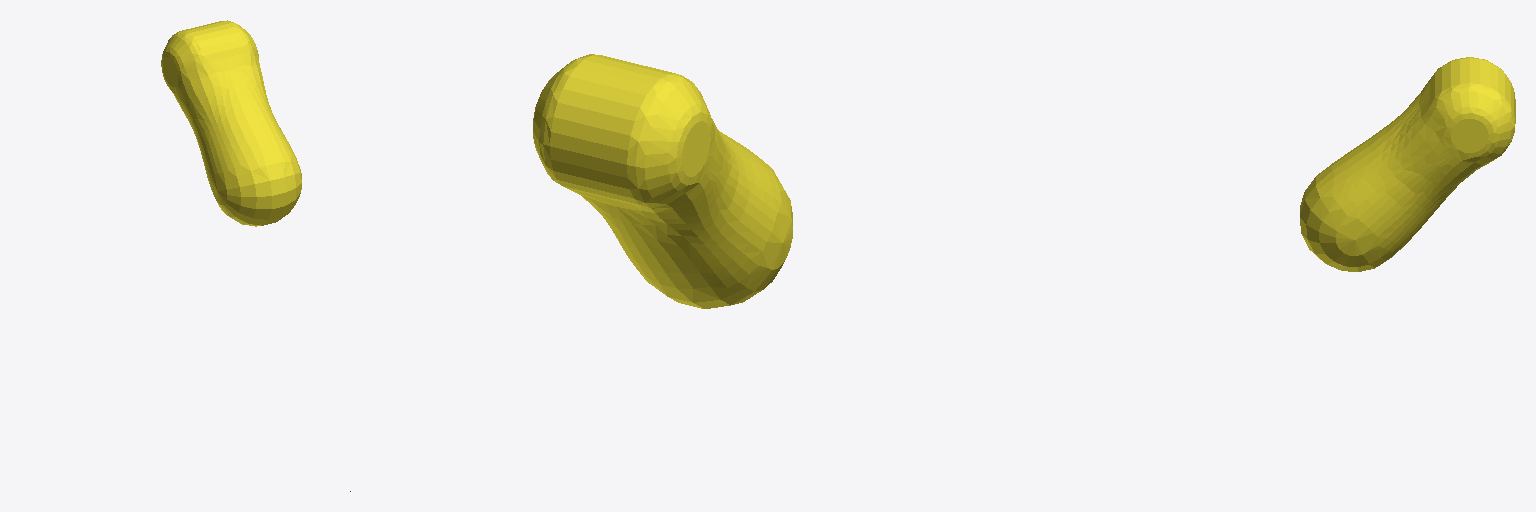
robot.urdf — Adroit:
<?xml version="0.0" ?>
<robot name="Adroit">
  <link name="adroit_root0">
    <inertial>
      <origin rpy="-0.03143 -0.00602 -0.37822" xyz="0.00100 -0.00200 0.29000"/>
      <mass value="4.00000"/>
      <inertia ixx="0.05139" ixy="0" ixz="0" iyy="0.05015" iyz="0" izz="0.04715"/>
    </inertial>
  </link>
  <link name="adroit_root1">
    <inertial>
      <mass value="0.01"/>
      <inertia ixx="1e-4" ixy="0.0" ixz="0.0" iyy="1e-4" iyz="0.0" izz="1e-4"/>
    </inertial>
  </link>
  <link name="adroit_root2">
    <inertial>
      <mass value="0.01"/>
      <inertia ixx="1e-4" ixy="0.0" ixz="0.0" iyy="1e-4" iyz="0.0" izz="1e-4"/>
    </inertial>
  </link>
  <link name="adroit_root3">
    <inertial>
      <mass value="0.01"/>
      <inertia ixx="1e-4" ixy="0.0" ixz="0.0" iyy="1e-4" iyz="0.0" izz="1e-4"/>
    </inertial>
  </link>
  <link name="adroit_root4">
    <inertial>
      <mass value="0.01"/>
      <inertia ixx="1e-4" ixy="0.0" ixz="0.0" iyy="1e-4" iyz="0.0" izz="1e-4"/>
    </inertial>
  </link>
  <link name="adroit_root5">
    <inertial>
      <mass value="0.01"/>
      <inertia ixx="1e-4" ixy="0.0" ixz="0.0" iyy="1e-4" iyz="0.0" izz="1e-4"/>
    </inertial>
  </link>

  <joint name="x_joint" type="prismatic">
    <parent link="adroit_root0"/>
    <child link="adroit_root1"/>
    <axis xyz="1 0 0"/>
    <limit lower="-0.5" upper="0.5"/>
  </joint>
  <joint name="y_joint" type="prismatic">
    <parent link="adroit_root1"/>
    <child link="adroit_root2"/>
    <axis xyz="0 1 0"/>
    <limit lower="-0.5" upper="0.5"/>
  </joint>
  <joint name="z_joint" type="prismatic">
    <parent link="adroit_root2"/>
    <child link="adroit_root3"/>
    <axis xyz="0 0 1"/>
    <limit lower="-0.5" upper="0.5"/>
  </joint>
  <joint name="x_rotation_joint" type="revolute">
    <parent link="adroit_root3"/>
    <child link="adroit_root4"/>
    <axis xyz="1 0 0"/>
    <limit lower="-3.14" upper="3.14"/>
  </joint>
  <joint name="y_rotation_joint" type="revolute">
    <parent link="adroit_root4"/>
    <child link="adroit_root5"/>
    <axis xyz="0 1 0"/>
    <limit lower="-3.14" upper="3.14"/>
  </joint>
  <joint name="z_rotation_joint" type="revolute">
    <parent link="adroit_root5"/>
    <child link="palm"/>
    <axis xyz="0 0 1"/>
    <origin rpy="-0.00000 -0.00000 1.57079" xyz="0 0 0"/>
    <limit lower="-3.14" upper="3.14"/>
  </joint>
  <link name="palm">
    <inertial>
      <origin rpy="0.16785 0.04641 1.54206" xyz="0.00600 0.00000 0.03600"/>
      <mass value="0.30000"/>
      <inertia ixx="700.28312" ixy="0" ixz="0" iyy="475.06938" iyz="0" izz="314.44362"/>
    </inertial>
    <visual>
      <geometry>
        <mesh filename="adroit_hand_description/meshes/palm.stl" scale="0.001 0.001 0.001"/>
      </geometry>
    </visual>
    <collision>
      <origin rpy="0.00000 -0.00000 0.00000" xyz="0.01100 0.00000 0.03800"/>
      <geometry>
        <box size="0.06400 0.02220 0.09800"/>
      </geometry>
    </collision>
    <collision>
      <origin rpy="0.00000 -0.00000 0.00000" xyz="-0.03200 -0.00000 0.01400"/>
      <geometry>
        <box size="0.02200 0.02220 0.05000"/>
      </geometry>
    </collision>
  </link>
  <link name="ffknuckle">
    <inertial>
      <origin rpy="2.04776 0.01137 0.00713" xyz="0.00000 0.00000 0.00000"/>
      <mass value="0.00800"/>
      <inertia ixx="0.77520" ixy="0" ixz="0" iyy="0.49146" iyz="0" izz="0.48926"/>
    </inertial>
    <visual>
      <geometry>
        <mesh filename="adroit_hand_description/meshes/knuckle.stl" scale="0.001 0.001 0.001"/>
      </geometry>
    </visual>
  </link>
  <link name="ffproximal">
    <inertial>
      <origin rpy="-0.00000 0.01132 1.57080" xyz="0.00000 0.00000 0.02300"/>
      <mass value="0.01400"/>
      <inertia ixx="4.70136" ixy="0" ixz="0" iyy="4.64128" iyz="0" izz="0.88127"/>
    </inertial>
    <visual>
      <geometry>
        <mesh filename="adroit_hand_description/meshes/F3.stl" scale="0.001 0.001 0.001"/>
      </geometry>
    </visual>
    <collision>
      <origin rpy="0.00000 -0.00000 0.00000" xyz="0.00000 0.00000 0.02250"/>
      <geometry>
        <capsule length="0.04500" radius="0.01000"/>
      </geometry>
    </collision>
  </link>
  <link name="ffmiddle">
    <inertial>
      <origin rpy="0.00000 -0.00000 1.57080" xyz="0.00000 0.00000 0.01100"/>
      <mass value="0.01200"/>
      <inertia ixx="1.92818" ixy="0" ixz="0" iyy="1.89149" iyz="0" izz="0.61726"/>
    </inertial>
    <visual>
      <geometry>
        <mesh filename="adroit_hand_description/meshes/F2.stl" scale="0.001 0.001 0.001"/>
      </geometry>
    </visual>
    <collision>
      <origin rpy="0.00000 -0.00000 0.00000" xyz="0.00000 0.00000 0.01250"/>
      <geometry>
        <capsule length="0.02500" radius="0.00805"/>
      </geometry>
    </collision>
  </link>
  <link name="ffdistal">
    <inertial>
      <origin rpy="-0.00000 0.00849 1.57080" xyz="0.00000 0.00000 0.01500"/>
      <mass value="0.01000"/>
      <inertia ixx="1.04965" ixy="0" ixz="0" iyy="0.97066" iyz="0" izz="0.44607"/>
    </inertial>
    <visual>
      <origin rpy="0.00000 -0.00000 0.00000" xyz="0.00000 -0.00000 0.00100"/>
      <geometry>
        <mesh filename="adroit_hand_description/meshes/F1.stl" scale="0.001 0.001 0.001"/>
      </geometry>
    </visual>
    <collision>
      <origin rpy="0.00000 -0.00000 0.00000" xyz="0.00000 -0.00000 0.01200"/>
      <geometry>
        <capsule length="0.02400" radius="0.00705"/>
      </geometry>
    </collision>
  </link>
  <link name="mfknuckle">
    <inertial>
      <origin rpy="2.04776 0.01137 0.00713" xyz="0.00000 0.00000 0.00000"/>
      <mass value="0.00800"/>
      <inertia ixx="0.77520" ixy="0" ixz="0" iyy="0.49146" iyz="0" izz="0.48926"/>
    </inertial>
    <visual>
      <geometry>
        <mesh filename="adroit_hand_description/meshes/knuckle.stl" scale="0.001 0.001 0.001"/>
      </geometry>
    </visual>
  </link>
  <link name="mfproximal">
    <inertial>
      <origin rpy="-0.00000 0.01132 1.57080" xyz="0.00000 0.00000 0.02300"/>
      <mass value="0.01400"/>
      <inertia ixx="4.70136" ixy="0" ixz="0" iyy="4.64128" iyz="0" izz="0.88127"/>
    </inertial>
    <visual>
      <geometry>
        <mesh filename="adroit_hand_description/meshes/F3.stl" scale="0.001 0.001 0.001"/>
      </geometry>
    </visual>
    <collision>
      <origin rpy="0.00000 -0.00000 0.00000" xyz="0.00000 0.00000 0.02250"/>
      <geometry>
        <capsule length="0.04500" radius="0.01000"/>
      </geometry>
    </collision>
  </link>
  <link name="mfmiddle">
    <inertial>
      <origin rpy="0.00000 -0.00000 1.57080" xyz="0.00000 0.00000 0.01200"/>
      <mass value="0.01200"/>
      <inertia ixx="1.92818" ixy="0" ixz="0" iyy="1.89149" iyz="0" izz="0.61726"/>
    </inertial>
    <visual>
      <geometry>
        <mesh filename="adroit_hand_description/meshes/F2.stl" scale="0.001 0.001 0.001"/>
      </geometry>
    </visual>
    <collision>
      <origin rpy="0.00000 -0.00000 0.00000" xyz="0.00000 0.00000 0.01250"/>
      <geometry>
        <capsule length="0.02500" radius="0.00805"/>
      </geometry>
    </collision>
  </link>
  <link name="mfdistal">
    <inertial>
      <origin rpy="-0.00000 0.00849 1.57080" xyz="0.00000 0.00000 0.01500"/>
      <mass value="0.01000"/>
      <inertia ixx="1.04965" ixy="0" ixz="0" iyy="0.97066" iyz="0" izz="0.44607"/>
    </inertial>
    <visual>
      <geometry>
        <mesh filename="adroit_hand_description/meshes/F1.stl" scale="0.001 0.001 0.001"/>
      </geometry>
    </visual>
    <collision>
      <origin rpy="0.00000 -0.00000 0.00000" xyz="0.00000 -0.00000 0.01200"/>
      <geometry>
        <capsule length="0.02400" radius="0.00705"/>
      </geometry>
    </collision>
  </link>
  <link name="rfknuckle">
    <inertial>
      <origin rpy="2.04776 0.01137 0.00713" xyz="0.00000 0.00000 0.00000"/>
      <mass value="0.00800"/>
      <inertia ixx="0.77520" ixy="0" ixz="0" iyy="0.49146" iyz="0" izz="0.48926"/>
    </inertial>
    <visual>
      <geometry>
        <mesh filename="adroit_hand_description/meshes/knuckle.stl" scale="0.001 0.001 0.001"/>
      </geometry>
    </visual>
  </link>
  <link name="rfproximal">
    <inertial>
      <origin rpy="-0.00000 0.01132 1.57080" xyz="0.00000 0.00000 0.02300"/>
      <mass value="0.01400"/>
      <inertia ixx="4.70136" ixy="0" ixz="0" iyy="4.64128" iyz="0" izz="0.88127"/>
    </inertial>
    <visual>
      <geometry>
        <mesh filename="adroit_hand_description/meshes/F3.stl" scale="0.001 0.001 0.001"/>
      </geometry>
    </visual>
    <collision>
      <origin rpy="0.00000 -0.00000 0.00000" xyz="0.00000 0.00000 0.02250"/>
      <geometry>
        <capsule length="0.04500" radius="0.01000"/>
      </geometry>
    </collision>
  </link>
  <link name="rfmiddle">
    <inertial>
      <origin rpy="0.00000 -0.00000 1.57080" xyz="0.00000 0.00000 0.01200"/>
      <mass value="0.01200"/>
      <inertia ixx="1.92818" ixy="0" ixz="0" iyy="1.89149" iyz="0" izz="0.61726"/>
    </inertial>
    <visual>
      <geometry>
        <mesh filename="adroit_hand_description/meshes/F2.stl" scale="0.001 0.001 0.001"/>
      </geometry>
    </visual>
    <collision>
      <origin rpy="0.00000 -0.00000 0.00000" xyz="0.00000 0.00000 0.01250"/>
      <geometry>
        <capsule length="0.02500" radius="0.00805"/>
      </geometry>
    </collision>
  </link>
  <link name="rfdistal">
    <inertial>
      <origin rpy="-0.00000 0.00849 1.57080" xyz="0.00000 0.00000 0.01500"/>
      <mass value="0.01000"/>
      <inertia ixx="1.04965" ixy="0" ixz="0" iyy="0.97066" iyz="0" izz="0.44607"/>
    </inertial>
    <visual>
      <origin rpy="0.00000 -0.00000 0.00000" xyz="0.00000 -0.00000 0.00100"/>
      <geometry>
        <mesh filename="adroit_hand_description/meshes/F1.stl" scale="0.001 0.001 0.001"/>
      </geometry>
    </visual>
    <collision>
      <origin rpy="0.00000 -0.00000 0.00000" xyz="0.00000 -0.00000 0.01200"/>
      <geometry>
        <capsule length="0.02400" radius="0.00705"/>
      </geometry>
    </collision>
  </link>
  <link name="lfmetacarpal">
    <inertial>
      <origin rpy="-0.22019 0.03876 1.54801" xyz="-0.01400 0.00100 0.01400"/>
      <mass value="0.07500"/>
      <inertia ixx="58.91810" ixy="0" ixz="0" iyy="45.72837" iyz="0" izz="21.82452"/>
    </inertial>
    <visual>
      <origin rpy="0.00000 -0.00000 0.00000" xyz="-0.01600 -0.00000 -0.02300"/>
      <geometry>
        <mesh filename="adroit_hand_description/meshes/lfmetacarpal.stl" scale="0.001 0.001 0.001"/>
      </geometry>
    </visual>
    <collision>
      <origin rpy="0.00000 -0.00000 0.00000" xyz="-0.01650 0.00000 0.01000"/>
      <geometry>
        <box size="0.01900 0.02220 0.05000"/>
      </geometry>
    </collision>
  </link>
  <link name="lfknuckle">
    <inertial>
      <origin rpy="2.04776 0.01137 0.00713" xyz="0.00000 0.00000 0.00000"/>
      <mass value="0.00800"/>
      <inertia ixx="0.77520" ixy="0" ixz="0" iyy="0.49146" iyz="0" izz="0.48926"/>
    </inertial>
    <visual>
      <geometry>
        <mesh filename="adroit_hand_description/meshes/knuckle.stl" scale="0.001 0.001 0.001"/>
      </geometry>
    </visual>
  </link>
  <link name="lfproximal">
    <inertial>
      <origin rpy="-0.00000 0.01132 1.57080" xyz="0.00000 0.00000 0.02300"/>
      <mass value="0.01400"/>
      <inertia ixx="4.70136" ixy="0" ixz="0" iyy="4.64128" iyz="0" izz="0.88127"/>
    </inertial>
    <visual>
      <geometry>
        <mesh filename="adroit_hand_description/meshes/F3.stl" scale="0.001 0.001 0.001"/>
      </geometry>
    </visual>
    <collision>
      <origin rpy="0.00000 -0.00000 0.00000" xyz="0.00000 0.00000 0.02250"/>
      <geometry>
        <capsule length="0.04500" radius="0.01000"/>
      </geometry>
    </collision>
  </link>
  <link name="lfmiddle">
    <inertial>
      <origin rpy="0.00000 -0.00000 1.57080" xyz="0.00000 0.00000 0.01200"/>
      <mass value="0.01200"/>
      <inertia ixx="1.92818" ixy="0" ixz="0" iyy="1.89149" iyz="0" izz="0.61726"/>
    </inertial>
    <visual>
      <geometry>
        <mesh filename="adroit_hand_description/meshes/F2.stl" scale="0.001 0.001 0.001"/>
      </geometry>
    </visual>
    <collision>
      <origin rpy="0.00000 -0.00000 0.00000" xyz="0.00000 0.00000 0.01250"/>
      <geometry>
        <capsule length="0.02500" radius="0.00805"/>
      </geometry>
    </collision>
  </link>
  <link name="lfdistal">
    <inertial>
      <origin rpy="-0.00000 0.00849 1.57080" xyz="0.00000 0.00000 0.01500"/>
      <mass value="0.01000"/>
      <inertia ixx="1.04965" ixy="0" ixz="0" iyy="0.97066" iyz="0" izz="0.44607"/>
    </inertial>
    <visual>
      <origin rpy="0.00000 -0.00000 0.00000" xyz="0.00000 -0.00000 0.00100"/>
      <geometry>
        <mesh filename="adroit_hand_description/meshes/F1.stl" scale="0.001 0.001 0.001"/>
      </geometry>
    </visual>
    <collision>
      <origin rpy="0.00000 -0.00000 0.00000" xyz="0.00000 -0.00000 0.01200"/>
      <geometry>
        <capsule length="0.02400" radius="0.00705"/>
      </geometry>
    </collision>
  </link>
  <link name="thbase">
    <inertial>
      <mass value="0.01000"/>
      <inertia ixx="0.00000" ixy="0" ixz="0" iyy="0.00000" iyz="0" izz="0.00000"/>
    </inertial>
    <collision>
      <geometry>
        <box size="0.00200 0.00200 0.00200"/>
      </geometry>
    </collision>
  </link>
  <link name="thproximal">
    <inertial>
      <origin rpy="0.00038 0.00196 0.38421" xyz="0.00000 0.00000 0.01700"/>
      <mass value="0.01600"/>
      <inertia ixx="6.48456" ixy="0" ixz="0" iyy="6.47914" iyz="0" izz="3.04491"/>
    </inertial>
    <visual>
      <geometry>
        <mesh filename="adroit_hand_description/meshes/TH3_z.stl" scale="0.001 0.001 0.001"/>
      </geometry>
    </visual>
    <collision>
      <origin rpy="0.00000 -0.00000 0.00000" xyz="0.00000 -0.00000 0.01900"/>
      <geometry>
        <capsule length="0.03800" radius="0.01300"/>
      </geometry>
    </collision>
  </link>
  <link name="thhub">
    <inertial>
      <mass value="0.00200"/>
      <inertia ixx="0.00000" ixy="0" ixz="0" iyy="0.00000" iyz="0" izz="0.00000"/>
    </inertial>
    <collision>
      <geometry>
        <box size="0.00200 0.00200 0.00200"/>
      </geometry>
    </collision>
  </link>
  <link name="thmiddle">
    <inertial>
      <origin rpy="-0.00204 -0.01399 0.00601" xyz="0.00000 0.00000 0.01600"/>
      <mass value="0.01600"/>
      <inertia ixx="4.28057" ixy="0" ixz="0" iyy="4.29017" iyz="0" izz="1.34849"/>
    </inertial>
    <visual>
      <geometry>
        <mesh filename="adroit_hand_description/meshes/TH2_z.stl" scale="0.001 0.001 0.001"/>
      </geometry>
    </visual>
    <collision>
      <origin rpy="0.00000 -0.00000 0.00000" xyz="0.00000 0.00000 0.01600"/>
      <geometry>
        <capsule length="0.03200" radius="0.01100"/>
      </geometry>
    </collision>
  </link>
  <link name="thdistal">
    <inertial>
      <origin rpy="-0.01050 -0.09397 0.01050" xyz="0.00000 0.00000 0.01600"/>
      <mass value="0.01600"/>
      <inertia ixx="2.57867" ixy="0" ixz="0" iyy="2.57257" iyz="0" izz="1.33251"/>
    </inertial>
    <visual>
      <geometry>
        <mesh filename="adroit_hand_description/meshes/TH1_z.stl" scale="0.001 0.001 0.001"/>
      </geometry>
    </visual>
    <collision>
      <origin rpy="0.00000 -0.00000 0.00000" xyz="0.00000 0.00000 0.01300"/>
      <geometry>
        <capsule length="0.02600" radius="0.00918"/>
      </geometry>
    </collision>
  </link>
  <joint name="FFJ3" type="revolute">
    <parent link="palm"/>
    <child link="ffknuckle"/>
    <dynamics damping="1.0" friction="0.0001"/>
    <limit effort="0" lower="-0.436" upper="0.436" velocity="0"/>
    <origin rpy="0.00000 -0.00000 -0.00000" xyz="0.03300 0.00000 0.09500"/>
    <axis xyz="0.00000 1.00000 0.00000"/>
  </joint>
  <joint name="FFJ2" type="revolute">
    <parent link="ffknuckle"/>
    <child link="ffproximal"/>
    <dynamics damping="1.0" friction="0.0001"/>
    <limit effort="0" lower="0" upper="1.571" velocity="0"/>
    <axis xyz="1.00000 0.00000 0.00000"/>
  </joint>
  <joint name="FFJ1" type="revolute">
    <parent link="ffproximal"/>
    <child link="ffmiddle"/>
    <dynamics damping="1.0" friction="0.0001"/>
    <limit effort="0" lower="0" upper="1.571" velocity="0"/>
    <origin rpy="0.00000 -0.00000 0.00000" xyz="0.00000 0.00000 0.04500"/>
    <axis xyz="1.00000 0.00000 0.00000"/>
  </joint>
  <joint name="FFJ0" type="revolute">
    <limit effort="0" lower="0" upper="1.571" velocity="0"/>
    <parent link="ffmiddle"/>
    <child link="ffdistal"/>
    <dynamics damping="1.0" friction="0.0001"/>
    <origin rpy="0.00000 -0.00000 0.00000" xyz="0.00000 0.00000 0.02500"/>
    <axis xyz="1.00000 0.00000 0.00000"/>
  </joint>
  <joint name="MFJ3" type="revolute">
    <limit effort="0" lower="-0.436" upper="0.436" velocity="0"/>
    <parent link="palm"/>
    <child link="mfknuckle"/>
    <dynamics damping="1.0" friction="0.0001"/>
    <origin rpy="0.00000 -0.00000 -0.00000" xyz="0.01100 0.00000 0.09900"/>
    <axis xyz="0.00000 1.00000 0.00000"/>
  </joint>
  <joint name="MFJ2" type="revolute">
    <limit effort="0" lower="0" upper="1.571" velocity="0"/>
    <parent link="mfknuckle"/>
    <child link="mfproximal"/>
    <dynamics damping="1.0" friction="0.0001"/>
    <axis xyz="1.00000 0.00000 0.00000"/>
  </joint>
  <joint name="MFJ1" type="revolute">
    <limit effort="0" lower="0" upper="1.571" velocity="0"/>
    <parent link="mfproximal"/>
    <child link="mfmiddle"/>
    <dynamics damping="1.0" friction="0.0001"/>
    <origin rpy="0.00000 -0.00000 0.00000" xyz="0.00000 0.00000 0.04500"/>
    <axis xyz="1.00000 0.00000 0.00000"/>
  </joint>
  <joint name="MFJ0" type="revolute">
    <limit effort="0" lower="0" upper="1.571" velocity="0"/>
    <parent link="mfmiddle"/>
    <child link="mfdistal"/>
    <dynamics damping="1.0" friction="0.0001"/>
    <origin rpy="0.00000 -0.00000 0.00000" xyz="0.00000 0.00000 0.02500"/>
    <axis xyz="1.00000 0.00000 0.00000"/>
  </joint>
  <joint name="RFJ3" type="revolute">
    <limit effort="0" lower="-0.436" upper="0.436" velocity="0"/>
    <parent link="palm"/>
    <child link="rfknuckle"/>
    <dynamics damping="1.0" friction="0.0001"/>
    <origin rpy="0.00000 -0.00000 -0.00000" xyz="-0.01100 -0.00000 0.09500"/>
    <axis xyz="0.00000 1.00000 0.00000"/>
  </joint>
  <joint name="RFJ2" type="revolute">
    <limit effort="0" lower="0" upper="1.571" velocity="0"/>
    <parent link="rfknuckle"/>
    <child link="rfproximal"/>
    <dynamics damping="1.0" friction="0.0001"/>
    <axis xyz="1.00000 0.00000 0.00000"/>
  </joint>
  <joint name="RFJ1" type="revolute">
    <limit effort="0" lower="0" upper="1.571" velocity="0"/>
    <parent link="rfproximal"/>
    <child link="rfmiddle"/>
    <dynamics damping="1.0" friction="0.0001"/>
    <origin rpy="0.00000 -0.00000 0.00000" xyz="0.00000 0.00000 0.04500"/>
    <axis xyz="1.00000 0.00000 0.00000"/>
  </joint>
  <joint name="RFJ0" type="revolute">
    <limit effort="0" lower="0" upper="1.571" velocity="0"/>
    <parent link="rfmiddle"/>
    <child link="rfdistal"/>
    <dynamics damping="1.0" friction="0.0001"/>
    <origin rpy="0.00000 -0.00000 0.00000" xyz="0.00000 0.00000 0.02500"/>
    <axis xyz="1.00000 0.00000 0.00000"/>
  </joint>
  <joint name="LFJ4" type="revolute">
    <limit effort="0" lower="0" upper="0.698" velocity="0"/>
    <parent link="palm"/>
    <child link="lfmetacarpal"/>
    <dynamics damping="1.0" friction="0.0001"/>
    <origin rpy="0.00000 -0.00000 -0.00000" xyz="-0.01700 -0.00000 0.04400"/>
    <axis xyz="0.57098 0.00000 0.82097"/>
  </joint>
  <joint name="LFJ3" type="revolute">
    <limit effort="0" lower="-0.436" upper="0.436" velocity="0"/>
    <parent link="lfmetacarpal"/>
    <child link="lfknuckle"/>
    <dynamics damping="1.0" friction="0.0001"/>
    <origin rpy="0.00000 -0.00000 0.00000" xyz="-0.01700 -0.00000 0.04400"/>
    <axis xyz="0.00000 1.00000 0.00000"/>
  </joint>
  <joint name="LFJ2" type="revolute">
    <limit effort="0" lower="0" upper="1.571" velocity="0"/>
    <parent link="lfknuckle"/>
    <child link="lfproximal"/>
    <dynamics damping="1.0" friction="0.0001"/>
    <axis xyz="1.00000 0.00000 0.00000"/>
  </joint>
  <joint name="LFJ1" type="revolute">
    <limit effort="0" lower="0" upper="1.571" velocity="0"/>
    <parent link="lfproximal"/>
    <child link="lfmiddle"/>
    <dynamics damping="1.0" friction="0.0001"/>
    <origin rpy="0.00000 -0.00000 0.00000" xyz="0.00000 0.00000 0.04500"/>
    <axis xyz="1.00000 0.00000 0.00000"/>
  </joint>
  <joint name="LFJ0" type="revolute">
    <limit effort="0" lower="0" upper="1.571" velocity="0"/>
    <parent link="lfmiddle"/>
    <child link="lfdistal"/>
    <dynamics damping="1.0" friction="0.0001"/>
    <origin rpy="0.00000 -0.00000 0.00000" xyz="0.00000 0.00000 0.02500"/>
    <axis xyz="1.00000 0.00000 0.00000"/>
  </joint>
  <joint name="THJ4" type="revolute">
    <limit effort="0" lower="-1.047" upper="1.047" velocity="0"/>
    <parent link="palm"/>
    <child link="thbase"/>
    <dynamics damping="1.0" friction="0.0001"/>
    <origin rpy="-0.00000 0.78500 0.00000" xyz="0.03400 -0.00900 0.02900"/>
    <axis xyz="0.00000 0.00000 -1.00000"/>
  </joint>
  <joint name="THJ3" type="revolute">
    <limit effort="0" lower="0" upper="1.309" velocity="0"/>
    <parent link="thbase"/>
    <child link="thproximal"/>
    <dynamics damping="1.0" friction="0.0001"/>
    <axis xyz="1.00000 0.00000 0.00000"/>
  </joint>
  <joint name="THJ2" type="revolute">
    <limit effort="0" lower="-0.262" upper="0.262" velocity="0"/>
    <parent link="thproximal"/>
    <child link="thhub"/>
    <dynamics damping="1.0" friction="0.0001"/>
    <origin rpy="-0.00000 -0.00000 -0.00000" xyz="-0.00000 0.00000 0.03800"/>
    <axis xyz="1.00000 0.00000 0.00000"/>
  </joint>
  <joint name="THJ1" type="revolute">
    <limit effort="0" lower="-0.524" upper="0.524" velocity="0"/>
    <parent link="thhub"/>
    <child link="thmiddle"/>
    <dynamics damping="1.0" friction="0.0001"/>
    <axis xyz="0.00000 1.00000 0.00000"/>
  </joint>
  <joint name="THJ0" type="revolute">
    <limit effort="0" lower="-1.571" upper="0" velocity="0"/>
    <parent link="thmiddle"/>
    <child link="thdistal"/>
    <dynamics damping="1.0" friction="0.0001"/>
    <origin rpy="0.00000 0.00000 -0.00000" xyz="0.00000 0.00000 0.03200"/>
    <axis xyz="0.00000 1.00000 0.00000"/>
  </joint>

  <!--Tips-->
  <link name="thtip">
  </link>
  <link name="fftip">
  </link>
  <link name="mftip">
  </link>
  <link name="rftip">
  </link>
  <link name="lftip">
  </link>
  <joint name="thtip_joint" type="fixed">
    <parent link="thdistal"/>
    <child link="thtip"/>
    <origin rpy="0.00000 -0.00000 0.00000" xyz="0.00000 0.00000 0.0275"/>
  </joint>
  <joint name="fftip_joint" type="fixed">
    <parent link="ffdistal"/>
    <child link="fftip"/>
    <origin rpy="0.00000 -0.00000 0.00000" xyz="0.00000 0.00000 0.026"/>
  </joint>
  <joint name="mftip_joint" type="fixed">
    <parent link="mfdistal"/>
    <child link="mftip"/>
    <origin rpy="0.00000 -0.00000 0.00000" xyz="0.00000 0.00000 0.026"/>
  </joint>
  <joint name="rftip_joint" type="fixed">
    <parent link="rfdistal"/>
    <child link="rftip"/>
    <origin rpy="0.00000 -0.00000 0.00000" xyz="0.00000 0.00000 0.026"/>
  </joint>
  <joint name="lftip_joint" type="fixed">
    <parent link="lfdistal"/>
    <child link="lftip"/>
    <origin rpy="0.00000 -0.00000 0.00000" xyz="0.00000 0.00000 0.026"/>
  </joint>
</robot>

--- Render facts (derived) ---
The picture shows the robot from 3 angles, left to right: view 1: azimuth 30°, elevation 25°; view 2: azimuth 150°, elevation 25°; view 3: azimuth 270°, elevation 25°; orthographic projection.
Model Adroit with 34 links and 33 joints (25 revolute, 3 prismatic, 5 fixed), rooted at adroit_root0, posed every joint at zero.
Links seen in each view (by area): view 1: thmiddle; view 2: thmiddle; view 3: thmiddle.
Link boxes in pixels (x1,y1,x2,y2): thmiddle: (161, 20, 301, 226); thmiddle: (533, 54, 792, 308); thmiddle: (1300, 57, 1515, 271).
Size in the robot's own frame: 0.0221 by 0.0925 by 0.0875 metres.
Meshes: 9 distinct files referenced, 2 mesh visuals loaded (2 binary STL); not drawn: 19 (reference not matched to a file when rendering).